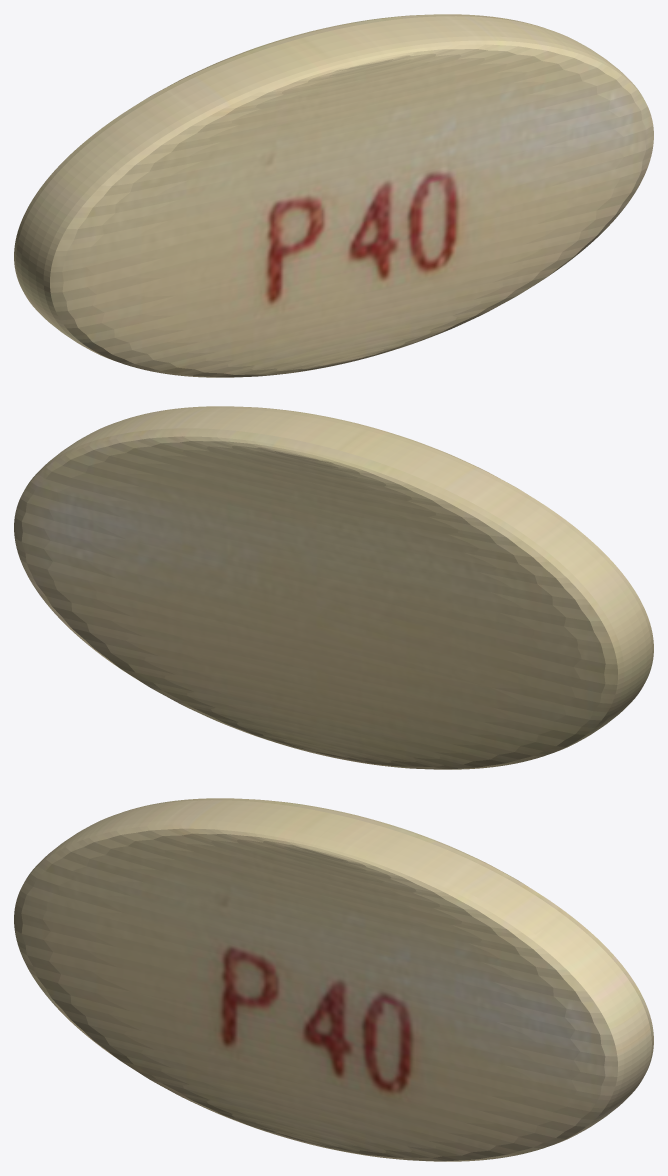
File: 20140311GOPHDRGPT02093.fbx
The picture shows the model from 3 angles, top to bottom: view 1: azimuth 30°, elevation 25°; view 2: azimuth 150°, elevation 25°; view 3: azimuth 330°, elevation 25°; orthographic projection.
Visible parts, largest first — view 1: BezierCircle; view 2: BezierCircle; view 3: BezierCircle.
Boxes of the visible parts, x1,y1,x2,y2 form: BezierCircle: [14, 14, 653, 377]; BezierCircle: [14, 406, 653, 769]; BezierCircle: [14, 798, 653, 1161].
Bounding box in the file's own units: 1.16 × 0.5564 × 0.1503.
Materials: 1 (1 with a texture image).
